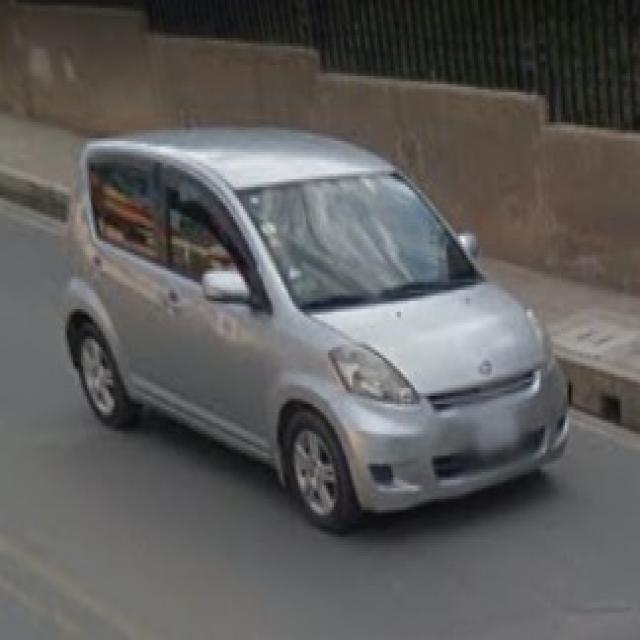car: (62, 124, 572, 533)
